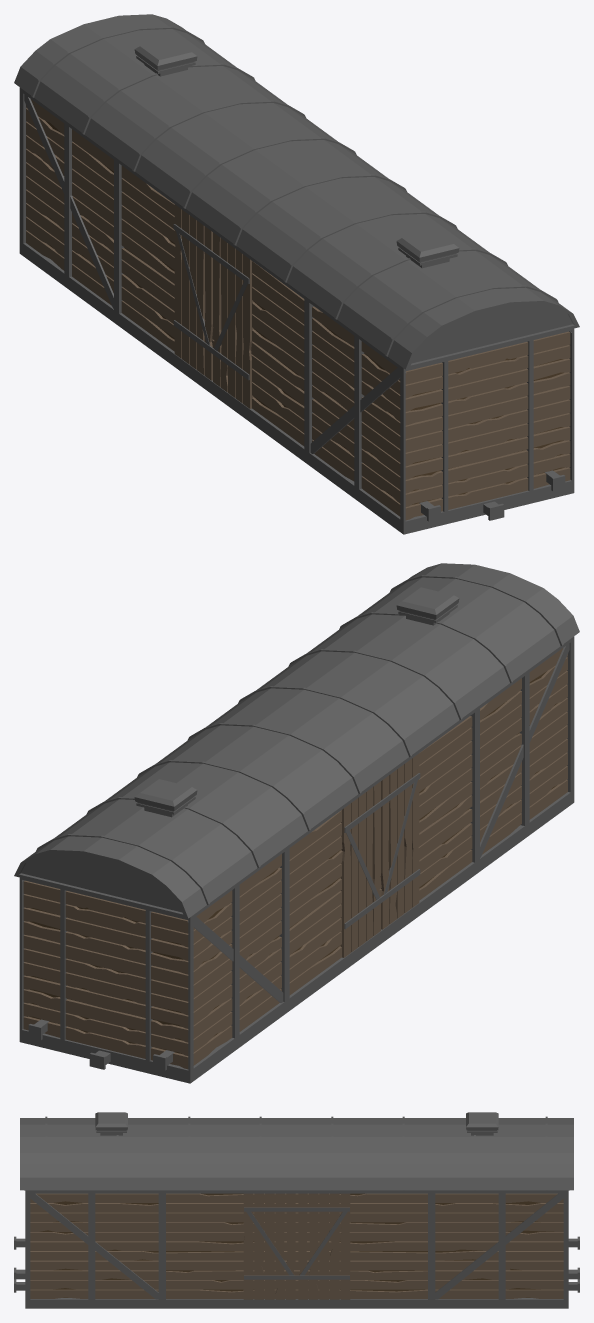
Rendered from wagon_01.glb.
The picture shows the model from 3 angles, top to bottom: view 1: azimuth 30°, elevation 25°; view 2: azimuth 150°, elevation 25°; view 3: azimuth 270°, elevation 25°; orthographic projection. The views are drawn at different scales.
Parts seen in each view (by area): view 1: Wagon_01; view 2: Wagon_01; view 3: Wagon_01.
Boxes of the visible parts, <box> form: Wagon_01: <box>14,14,579,534</box>; Wagon_01: <box>14,563,579,1083</box>; Wagon_01: <box>14,1112,579,1308</box>.
Bounding box in the file's own units: 3.64 × 4.83 × 14.19.
